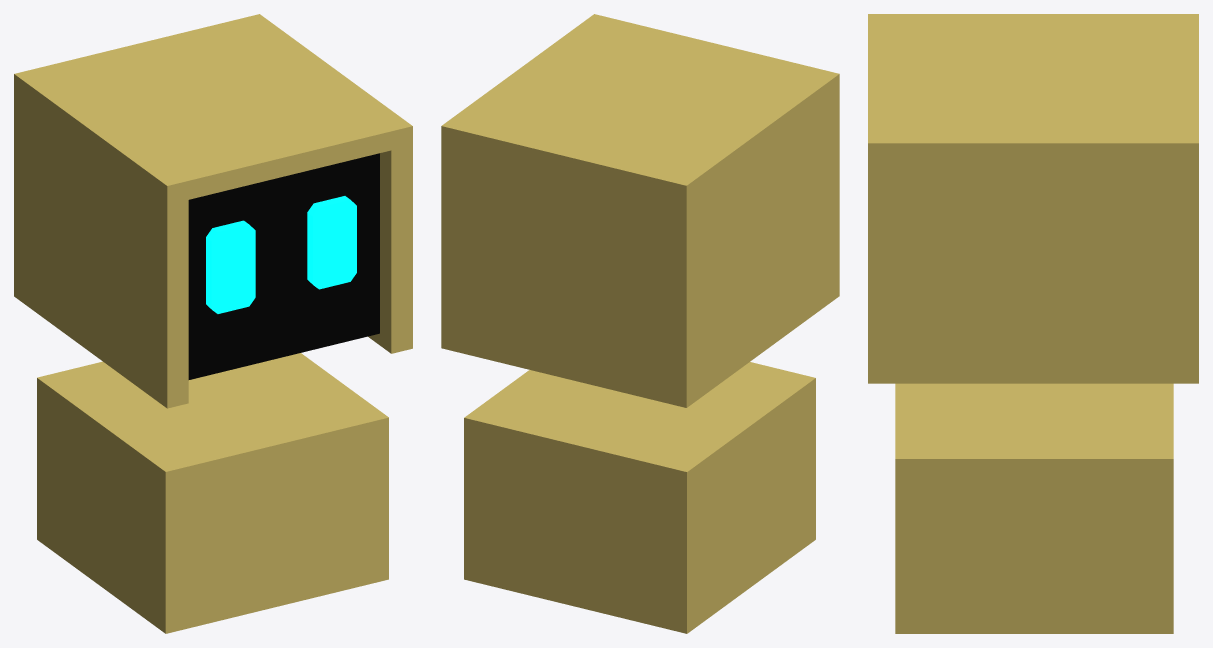
File: char_keeper.glb
3 renders of one model, left to right at view 1: azimuth 30°, elevation 25°; view 2: azimuth 150°, elevation 25°; view 3: azimuth 270°, elevation 25°, orthographic. The views are drawn at different scales.
Visible parts, largest first — view 1: keeper_head, keeper_body, keeper_face, keeper_eye_r, keeper_eye_l; view 2: keeper_head, keeper_body; view 3: keeper_head, keeper_body.
Part boxes in pixels (x1,y1,x2,y2): keeper_head: (14,14,412,408); keeper_body: (37,353,388,633); keeper_face: (188,153,379,379); keeper_eye_r: (206,220,255,313); keeper_eye_l: (307,196,356,289); keeper_head: (441,14,839,407); keeper_body: (464,362,815,633); keeper_head: (868,14,1198,383); keeper_body: (895,383,1173,633).
Bounding box in the file's own units: 0.1 × 0.1789 × 0.108.
